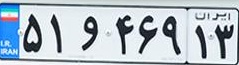character: (73, 10, 102, 53), (47, 10, 71, 57), (136, 12, 161, 56), (114, 9, 136, 57), (161, 14, 184, 58), (23, 13, 45, 54), (214, 21, 235, 61), (193, 21, 211, 61)
